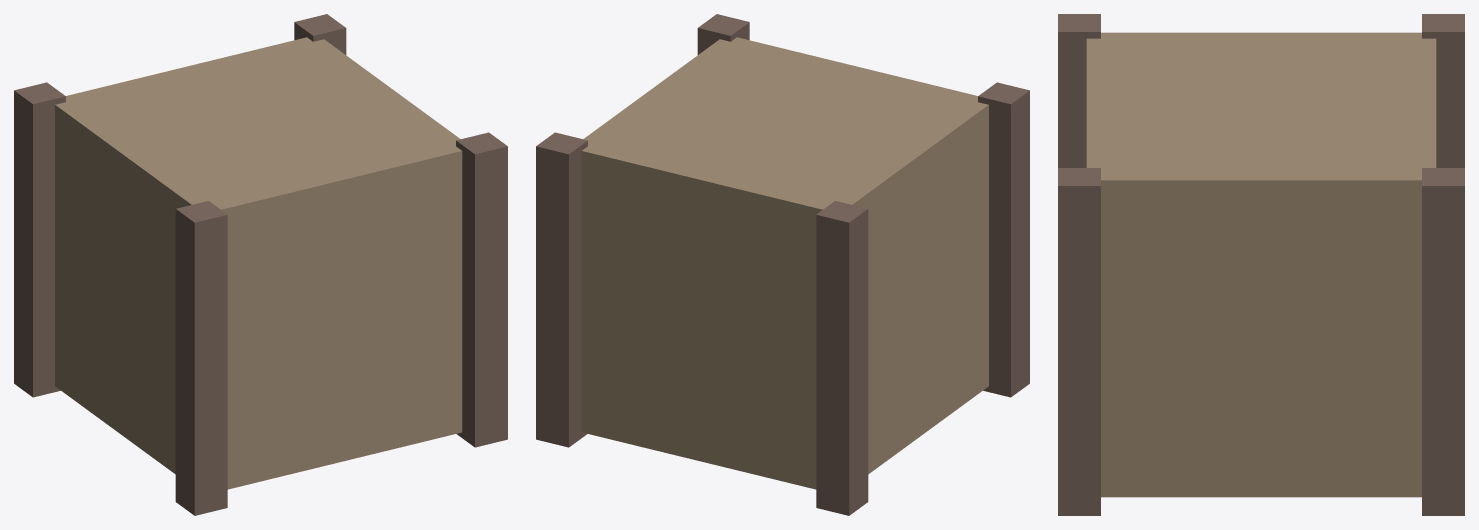
Rendered from wooden_crate.glb.
The picture shows the model from 3 angles, left to right: view 1: azimuth 30°, elevation 25°; view 2: azimuth 150°, elevation 25°; view 3: azimuth 270°, elevation 25°; orthographic projection. The views are drawn at different scales.
Visible parts, largest first — view 1: geometry_0; view 2: geometry_0; view 3: geometry_0.
Boxes of the visible parts, left/top/right/bottom form: geometry_0: left=14, top=14, right=507, bottom=515; geometry_0: left=536, top=14, right=1029, bottom=515; geometry_0: left=1058, top=14, right=1464, bottom=515.
Bounding box in the file's own units: 0.95 × 0.85 × 0.95.
